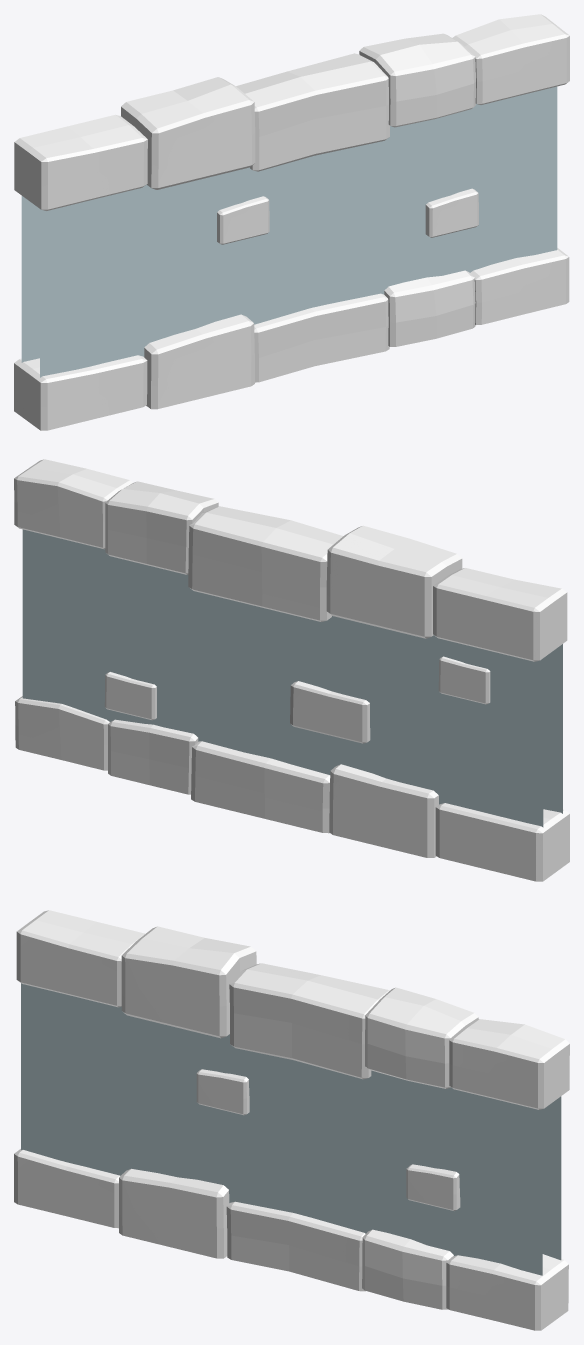
The model's file is wall2222.glb.
3 renders of one model, top to bottom at view 1: azimuth 30°, elevation 25°; view 2: azimuth 150°, elevation 25°; view 3: azimuth 330°, elevation 25°, orthographic.
Visible parts, largest first — view 1: wall2; view 2: wall2; view 3: wall2.
Boxes of the visible parts, x1,y1,x2,y2 form: wall2: (14,14,569,430); wall2: (14,459,569,881); wall2: (14,910,569,1330).
Bounding box in the file's own units: 0.102 × 0.0535 × 0.012.
1 material, 1 textured.
